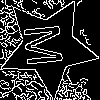M: (23, 21, 73, 68)
